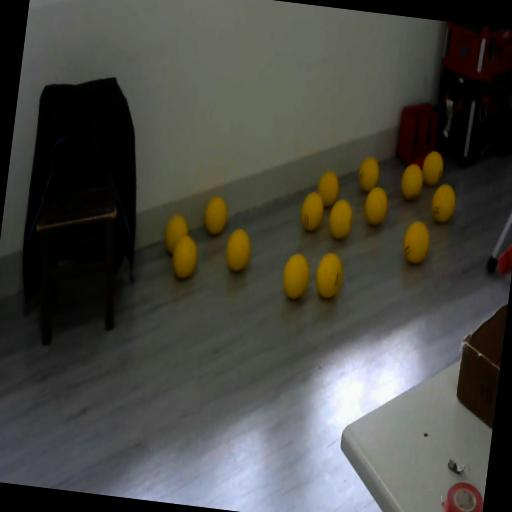FUEL: (280, 251, 312, 302), (312, 250, 344, 300), (169, 232, 200, 282), (222, 226, 254, 274), (400, 220, 432, 266), (362, 184, 390, 228), (326, 197, 354, 241), (202, 194, 230, 238), (298, 190, 326, 233), (430, 182, 458, 224), (314, 168, 341, 210), (420, 149, 446, 188), (399, 162, 425, 201), (357, 156, 381, 194)
